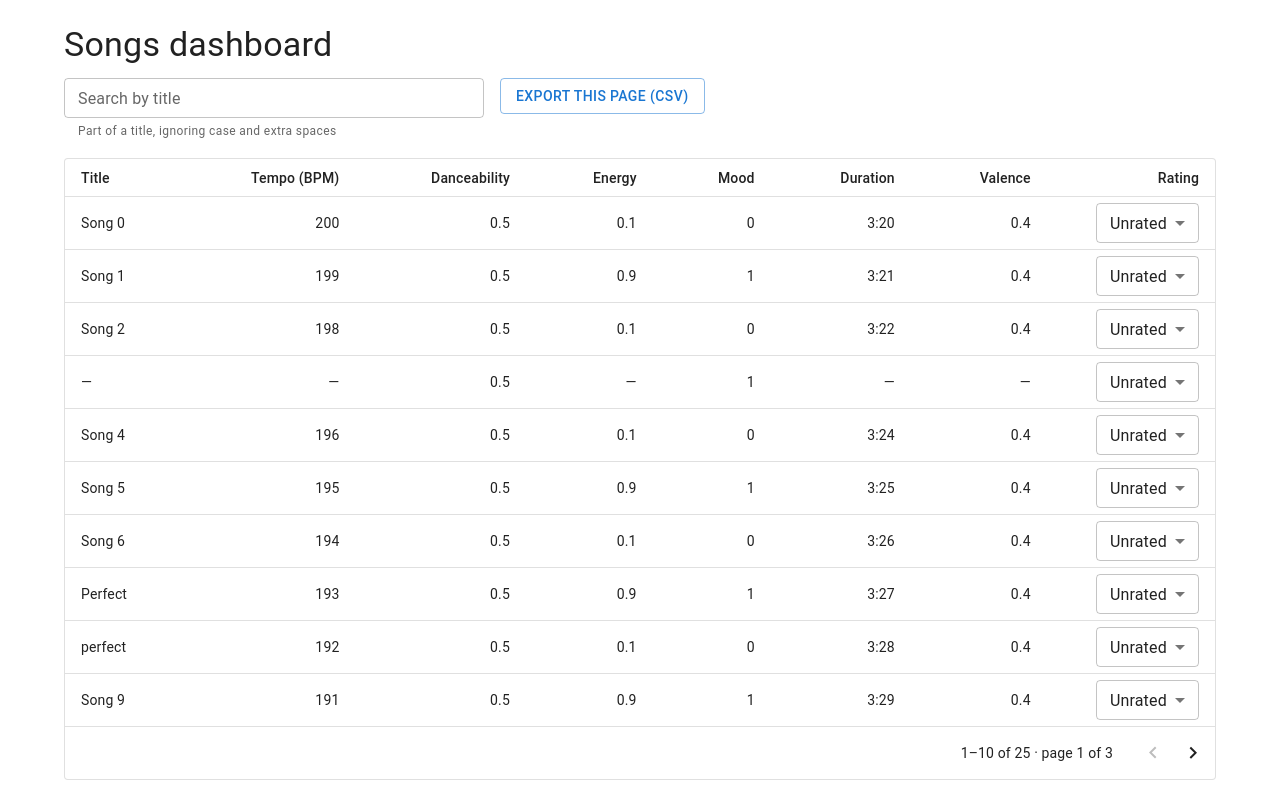
it: sorting › sorts the whole dataset, not just the visible page
The image size is (1280, 800).
What coordinates should you click on to do the following:
click the button "Tempo (BPM)"
I would click on:
 (295, 178)
Its box is [251,170,340,186].
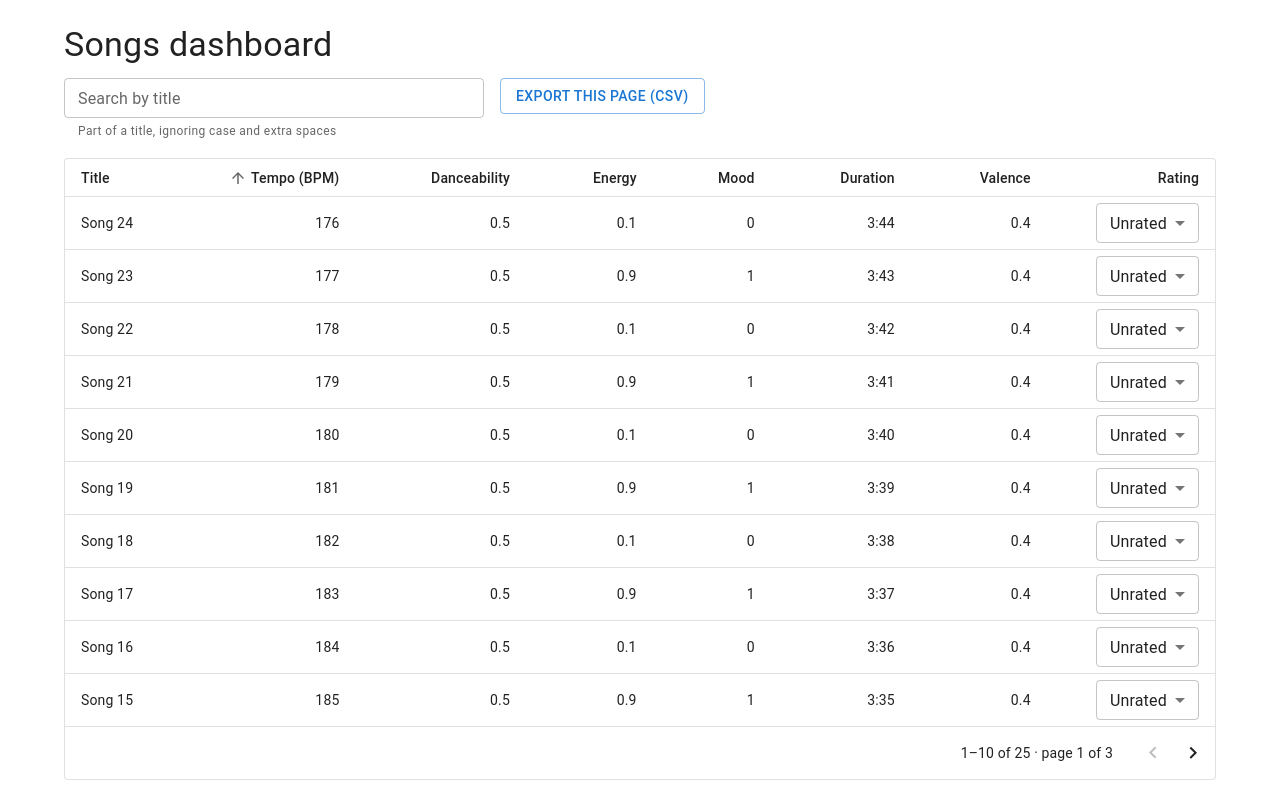
Now the cell "Song 24" is shown, box [65,197,173,250]
# nulls last: the song with a null tempo is on the last page, not first
What coordinates should you click on to do the following:
click the button named "next page"
I would click on:
 (1193, 753)
Its box is [1173,733,1213,773].
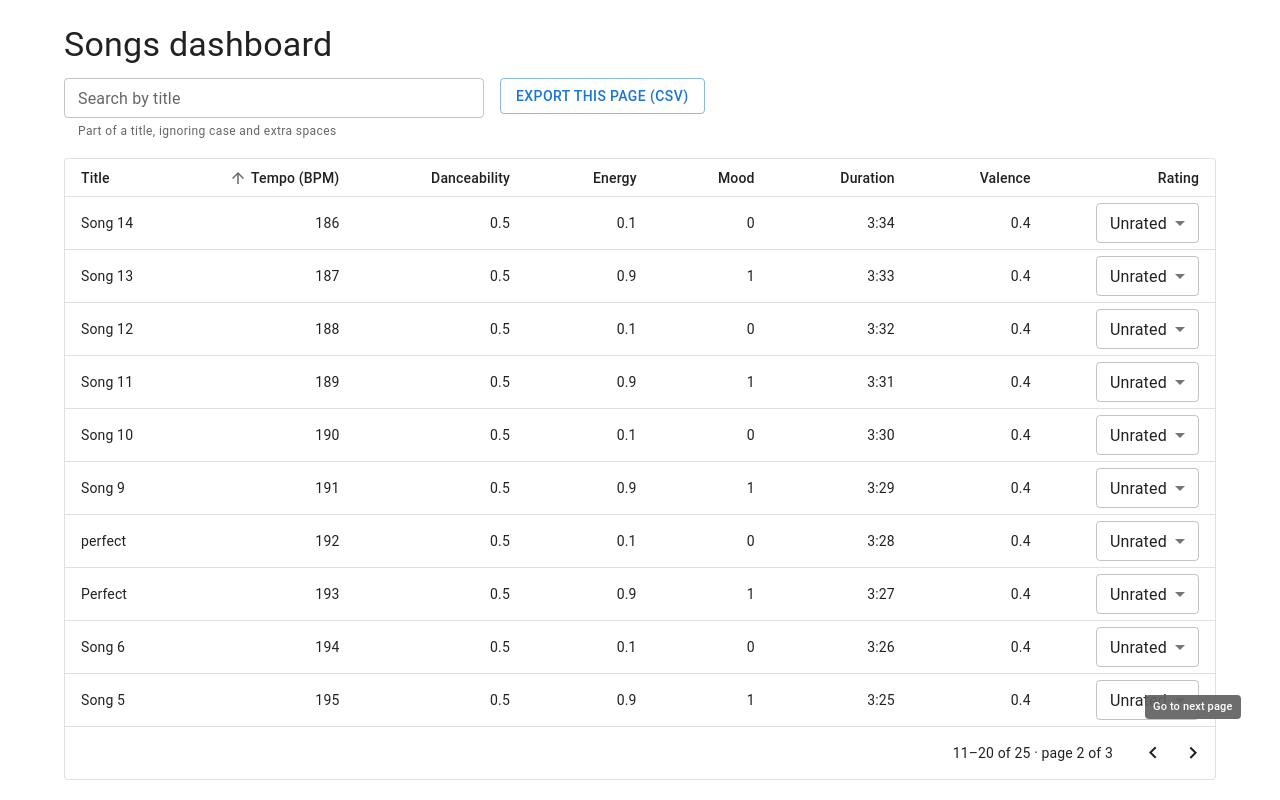
What coordinates should you click on to do the following:
click the button named "next page"
I would click on:
 (1193, 753)
Its box is [1173,733,1213,773].
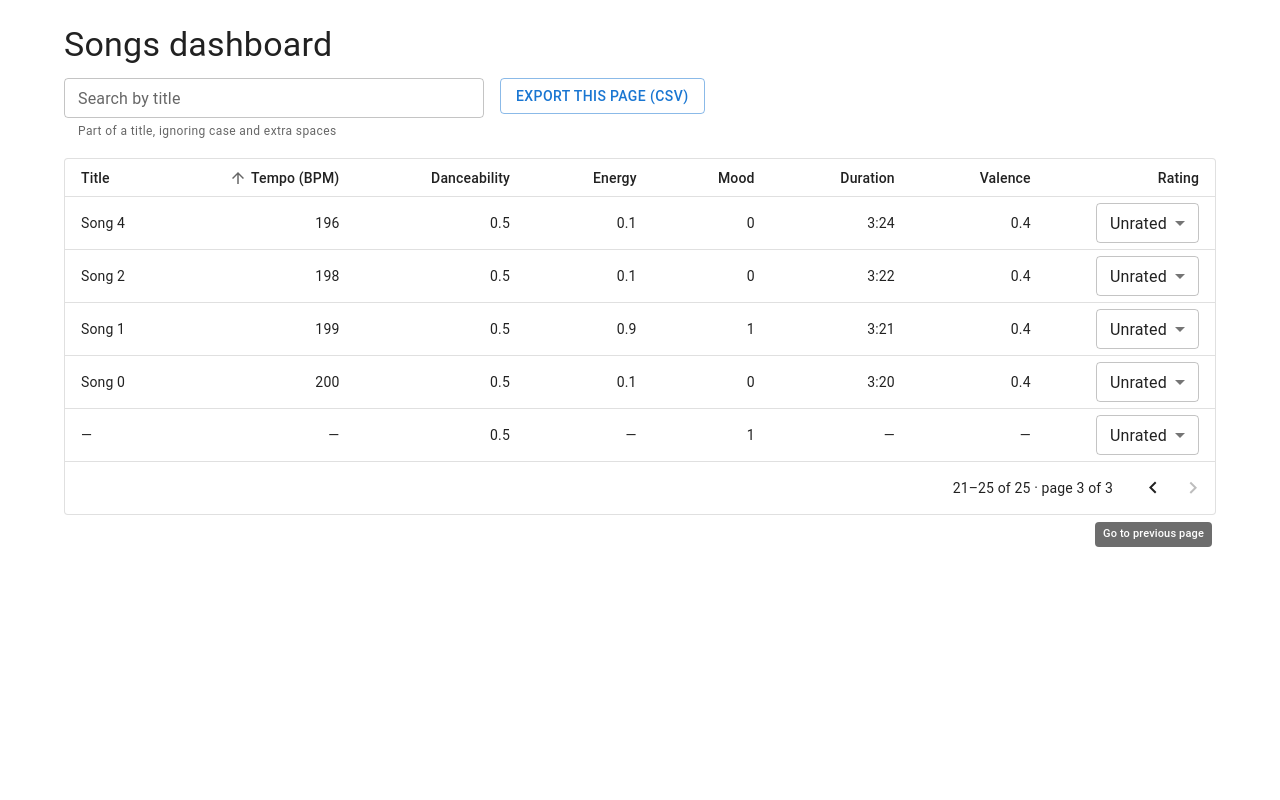
Now the text "21–25 of 25 · page 3 of 3" is shown, box [953,478,1113,498]
